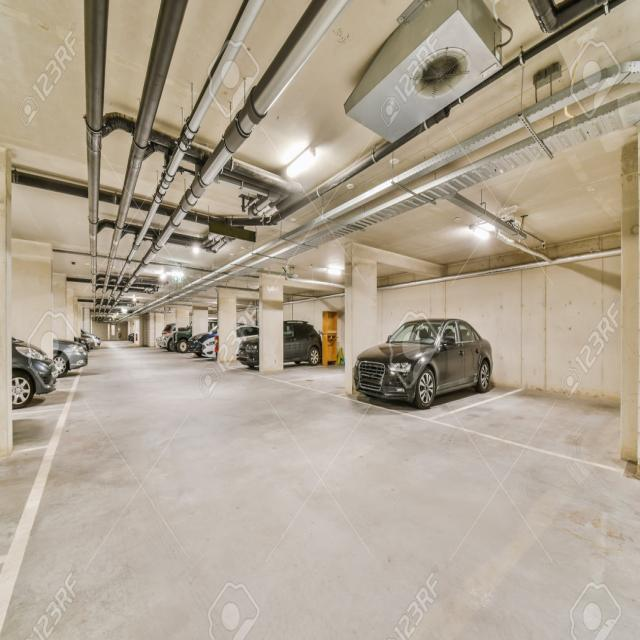libre: (451, 393, 616, 458), (274, 366, 352, 397)
ocupado: (346, 304, 503, 424), (156, 310, 326, 374), (4, 320, 105, 419)
